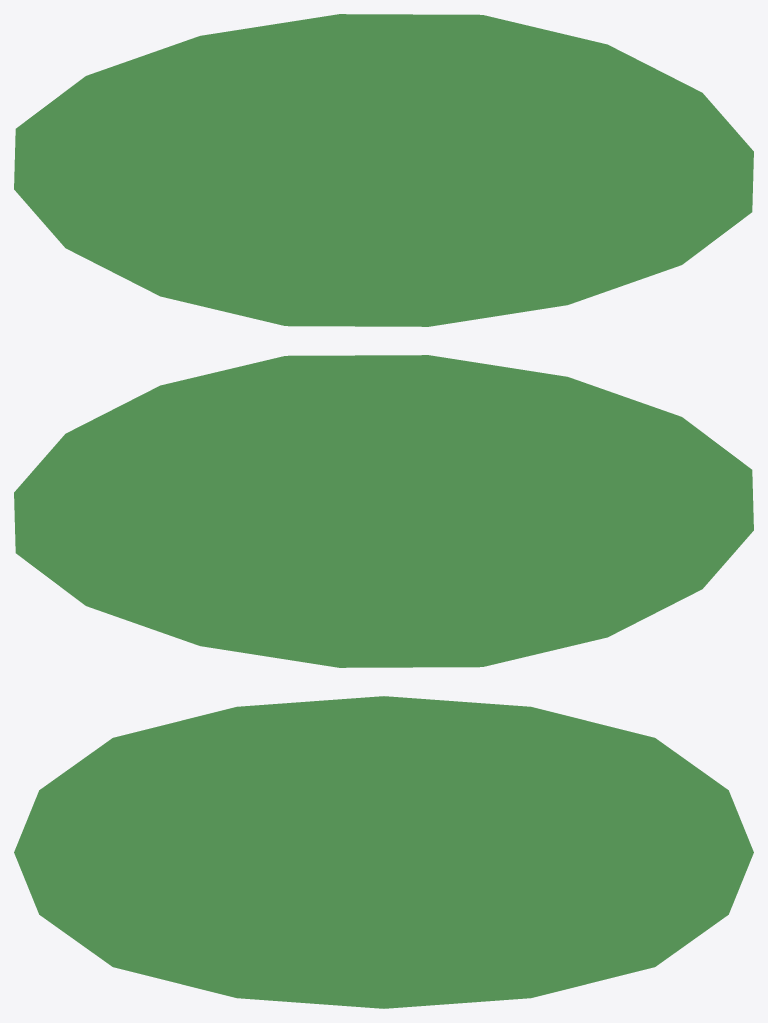
Rendered from grass.glb.
The picture shows the model from 3 angles, top to bottom: view 1: azimuth 30°, elevation 25°; view 2: azimuth 150°, elevation 25°; view 3: azimuth 270°, elevation 25°; orthographic projection.
Visible parts, largest first — view 1: GrassPatch; view 2: GrassPatch; view 3: GrassPatch.
Part boxes in pixels (x1,y1,x2,y2): GrassPatch: [14, 14, 753, 326]; GrassPatch: [14, 355, 753, 667]; GrassPatch: [14, 696, 753, 1008].
Bounding box in the file's own units: 0.9167 × 0 × 0.9167.
